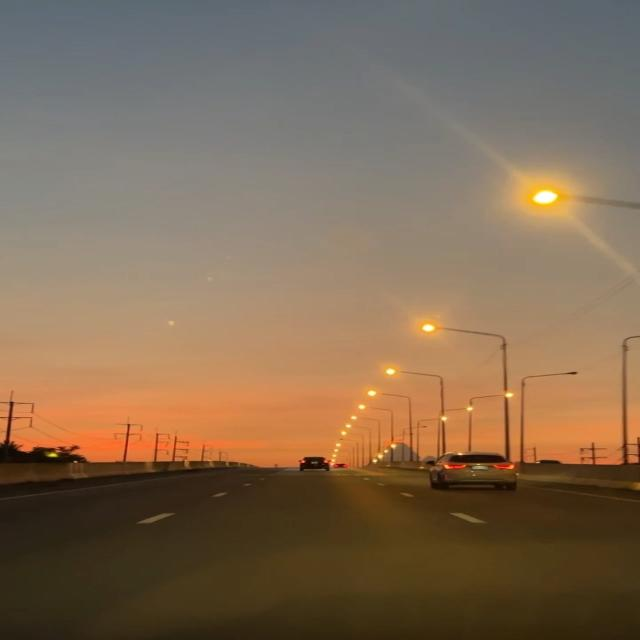Poth-hole: (163, 486, 617, 637)
